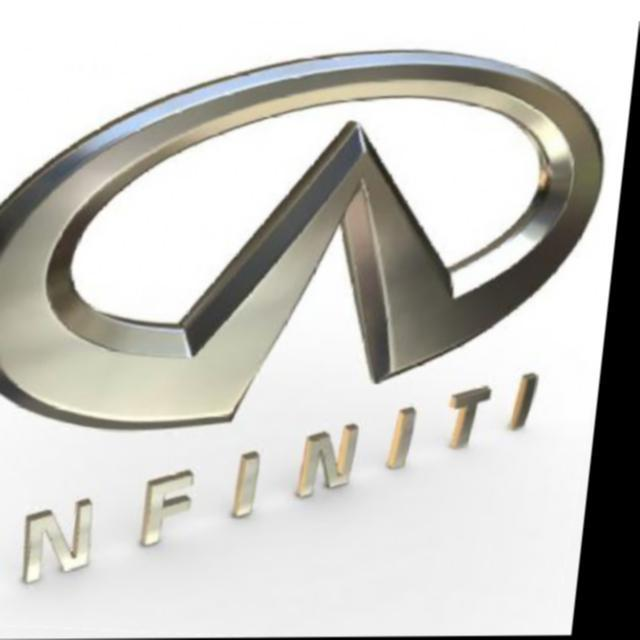Infiniti: (0, 21, 640, 640)
